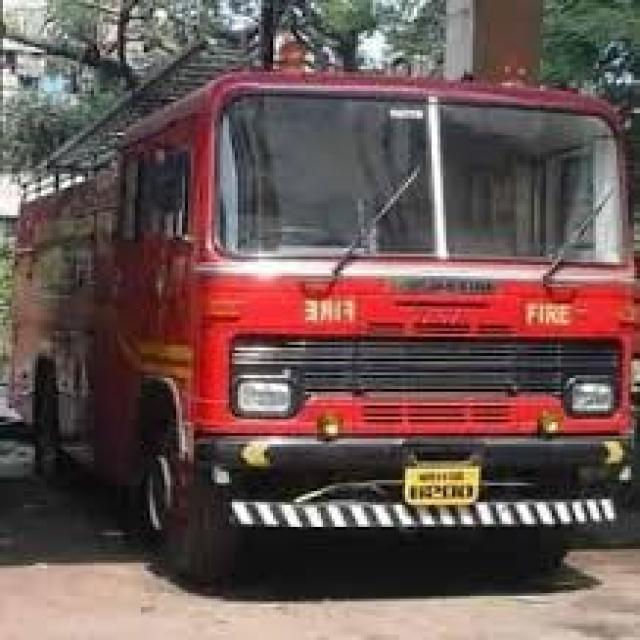Fire_brigade: (11, 66, 640, 587)
